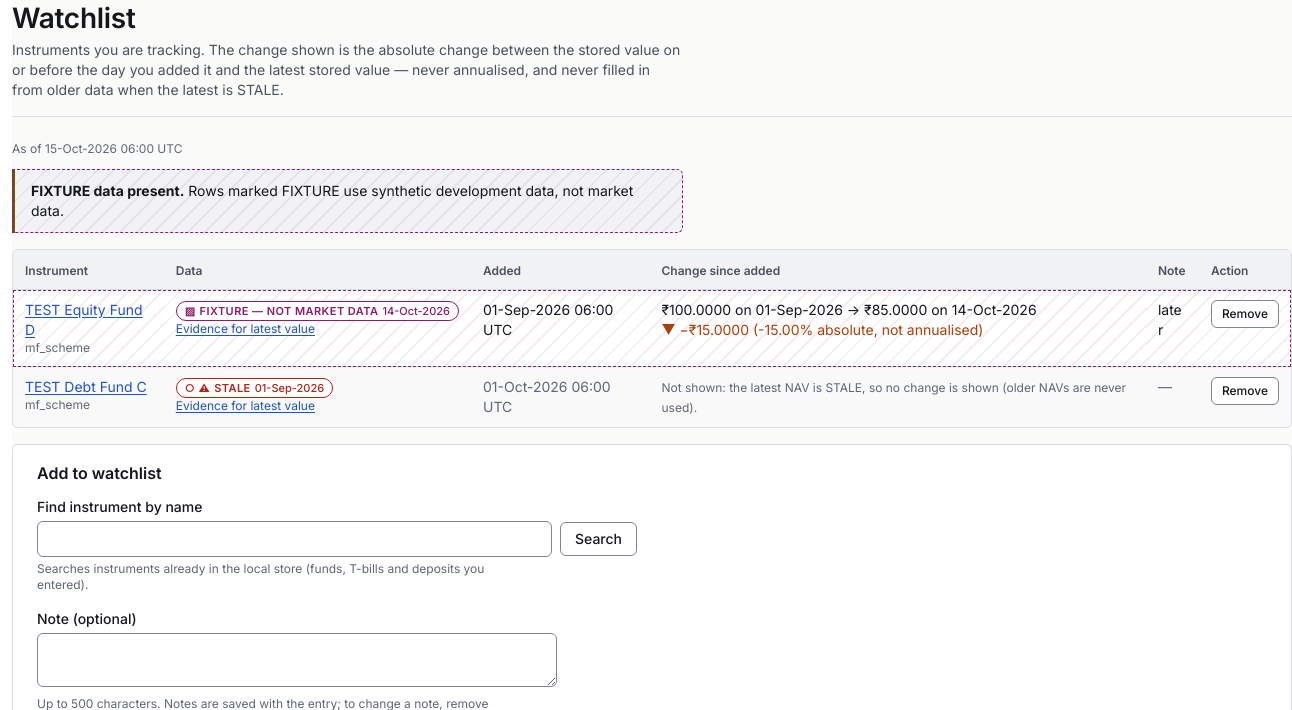
Watchlist › explains ALREADY_WATCHED in words
This screenshot has width=1292, height=710.
Expected: the table is shown, [13,250,1291,427]
In the field labelled "Find instrument by name": x=294, y=539 [37,521,552,557], type "Liquid"
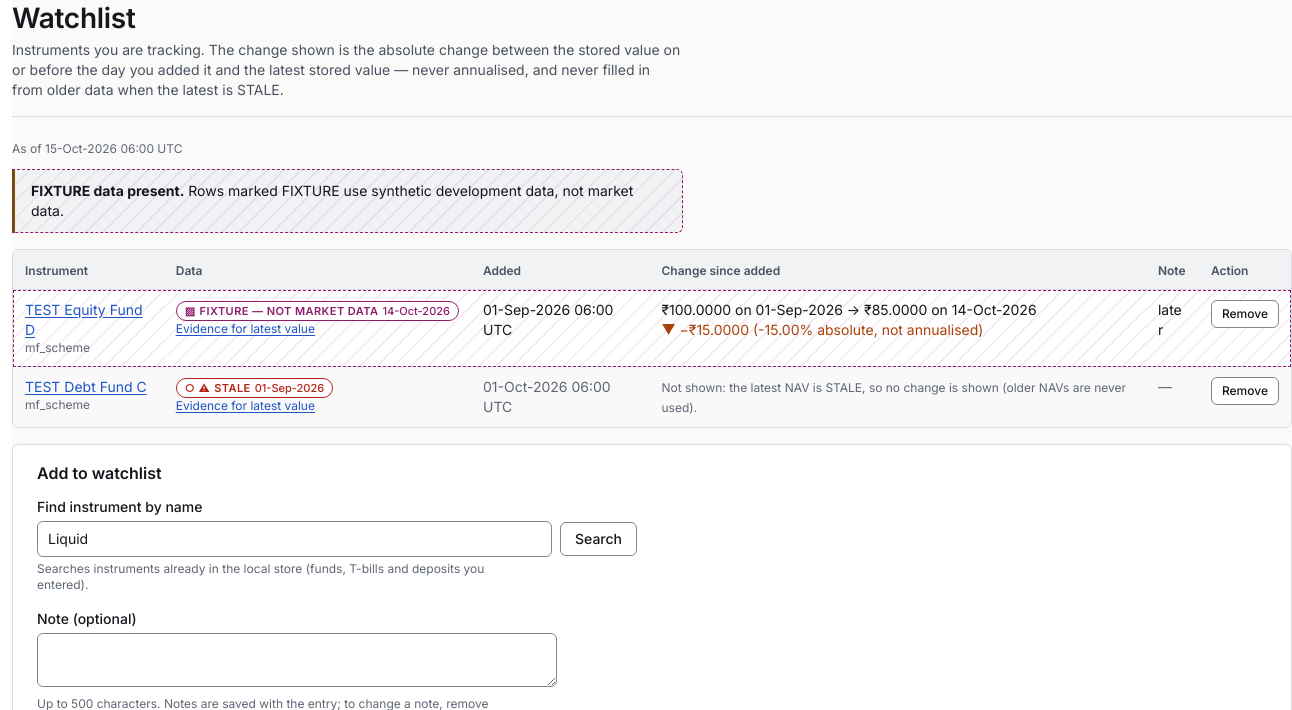
Click the button "Search": x=598, y=539 [560,522,637,556]
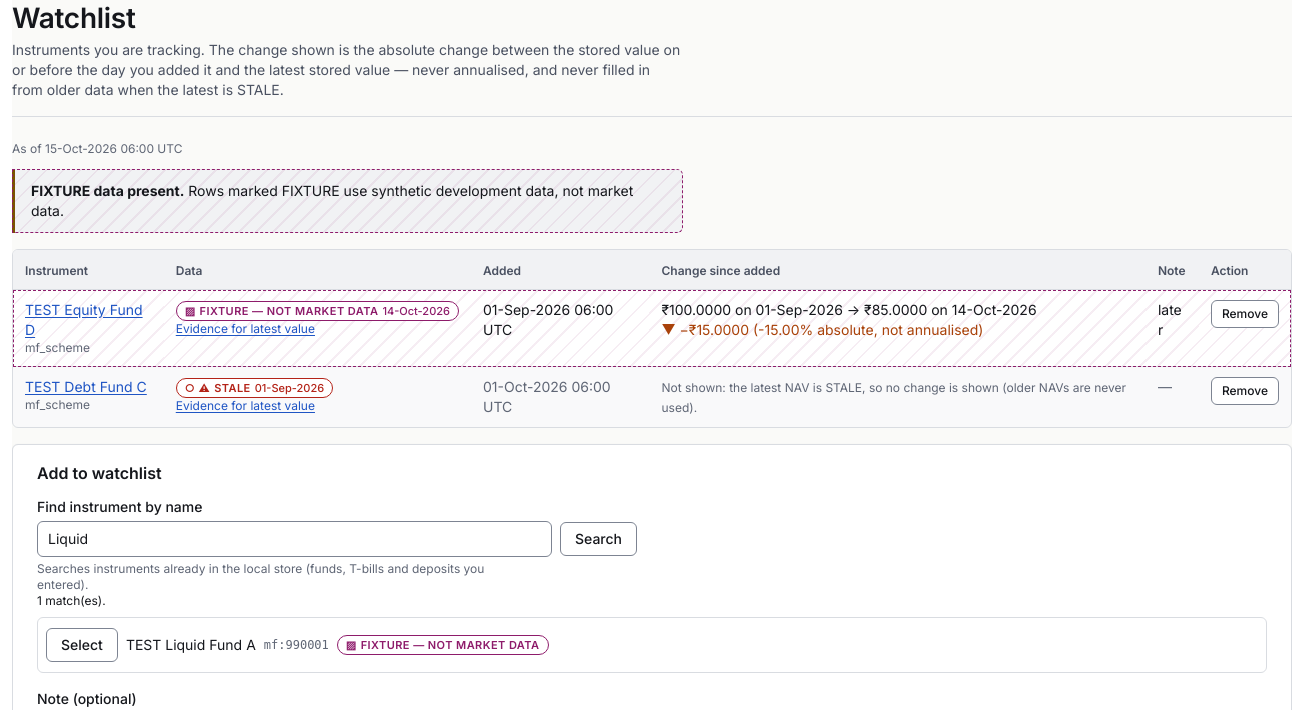
Click the button with aria-label "Select TEST Liquid Fund A": x=82, y=645 [46,628,118,662]
(page scrolled)
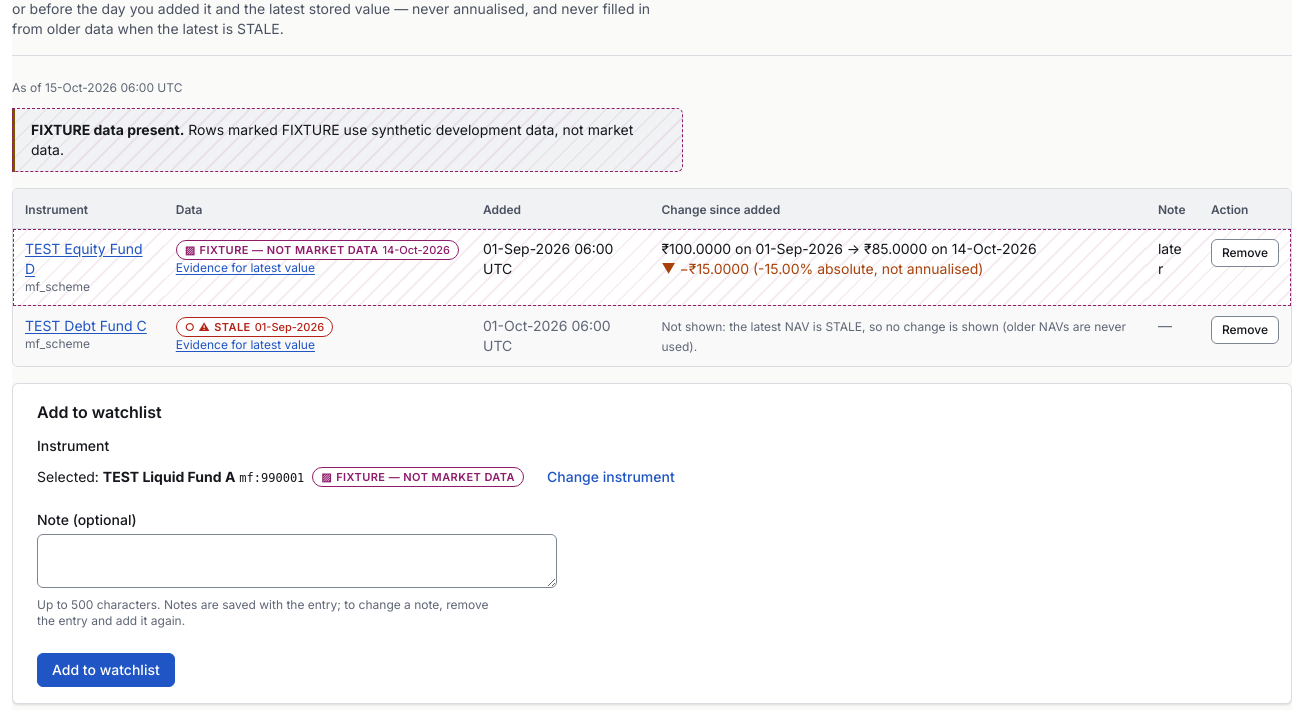
Click the button "Add to watchlist": x=106, y=670 [37,653,175,687]
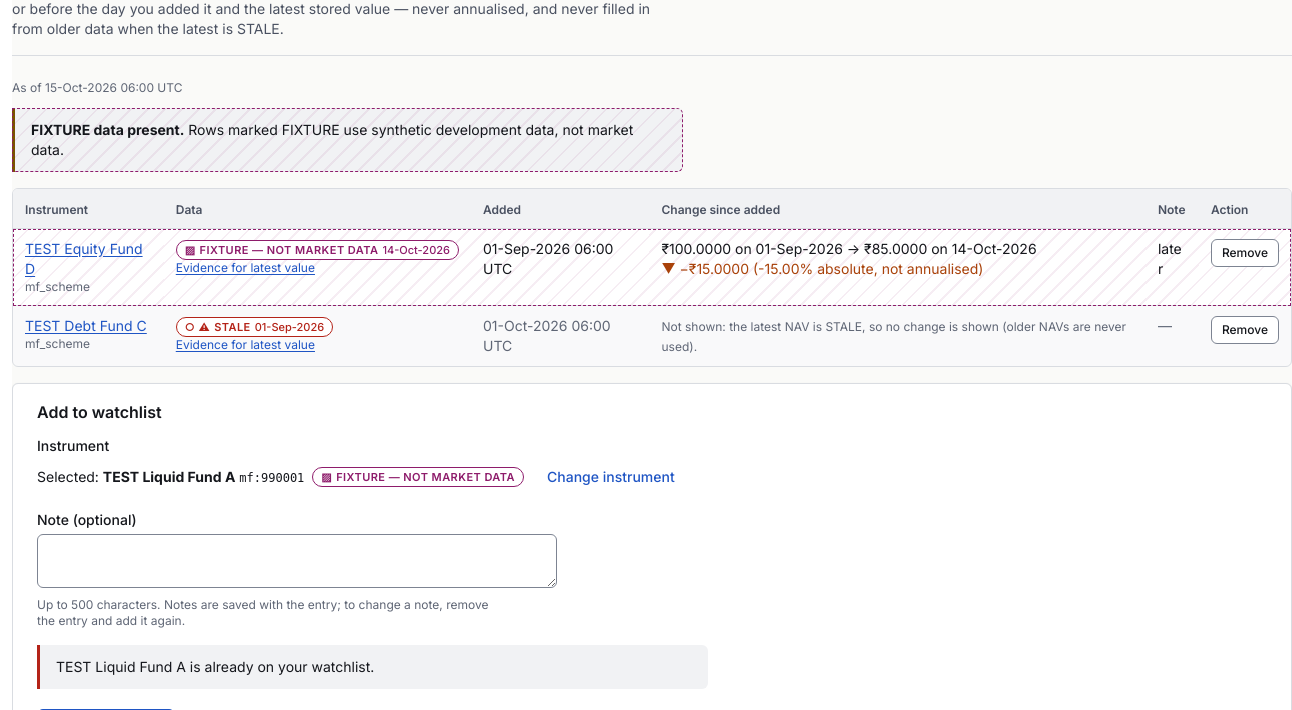
Now the text "TEST Liquid Fund A is already on your watchlist." is shown, box [37,645,708,689]
